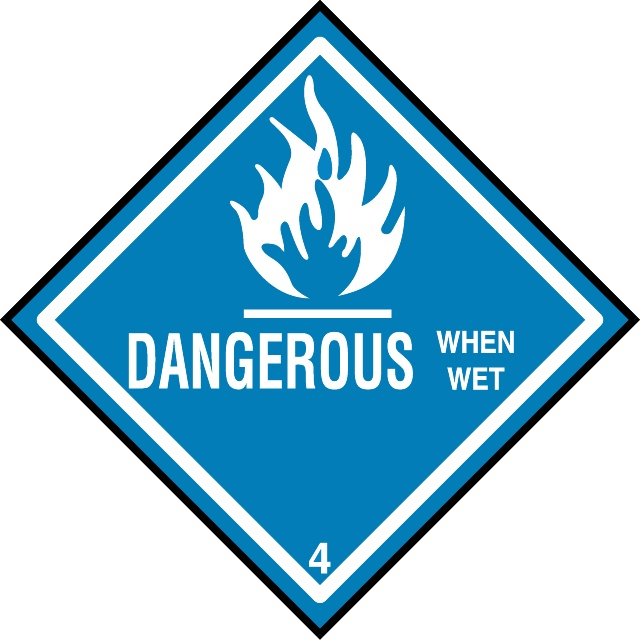Dangerous when wet: (1, 1, 640, 640)
